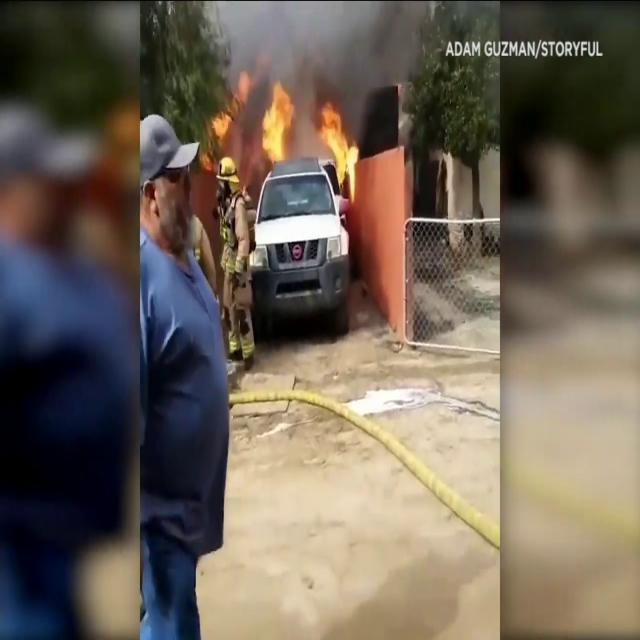Fire: (204, 75, 256, 183), (316, 101, 362, 200), (258, 79, 298, 167)
Smoke: (220, 2, 428, 121)
